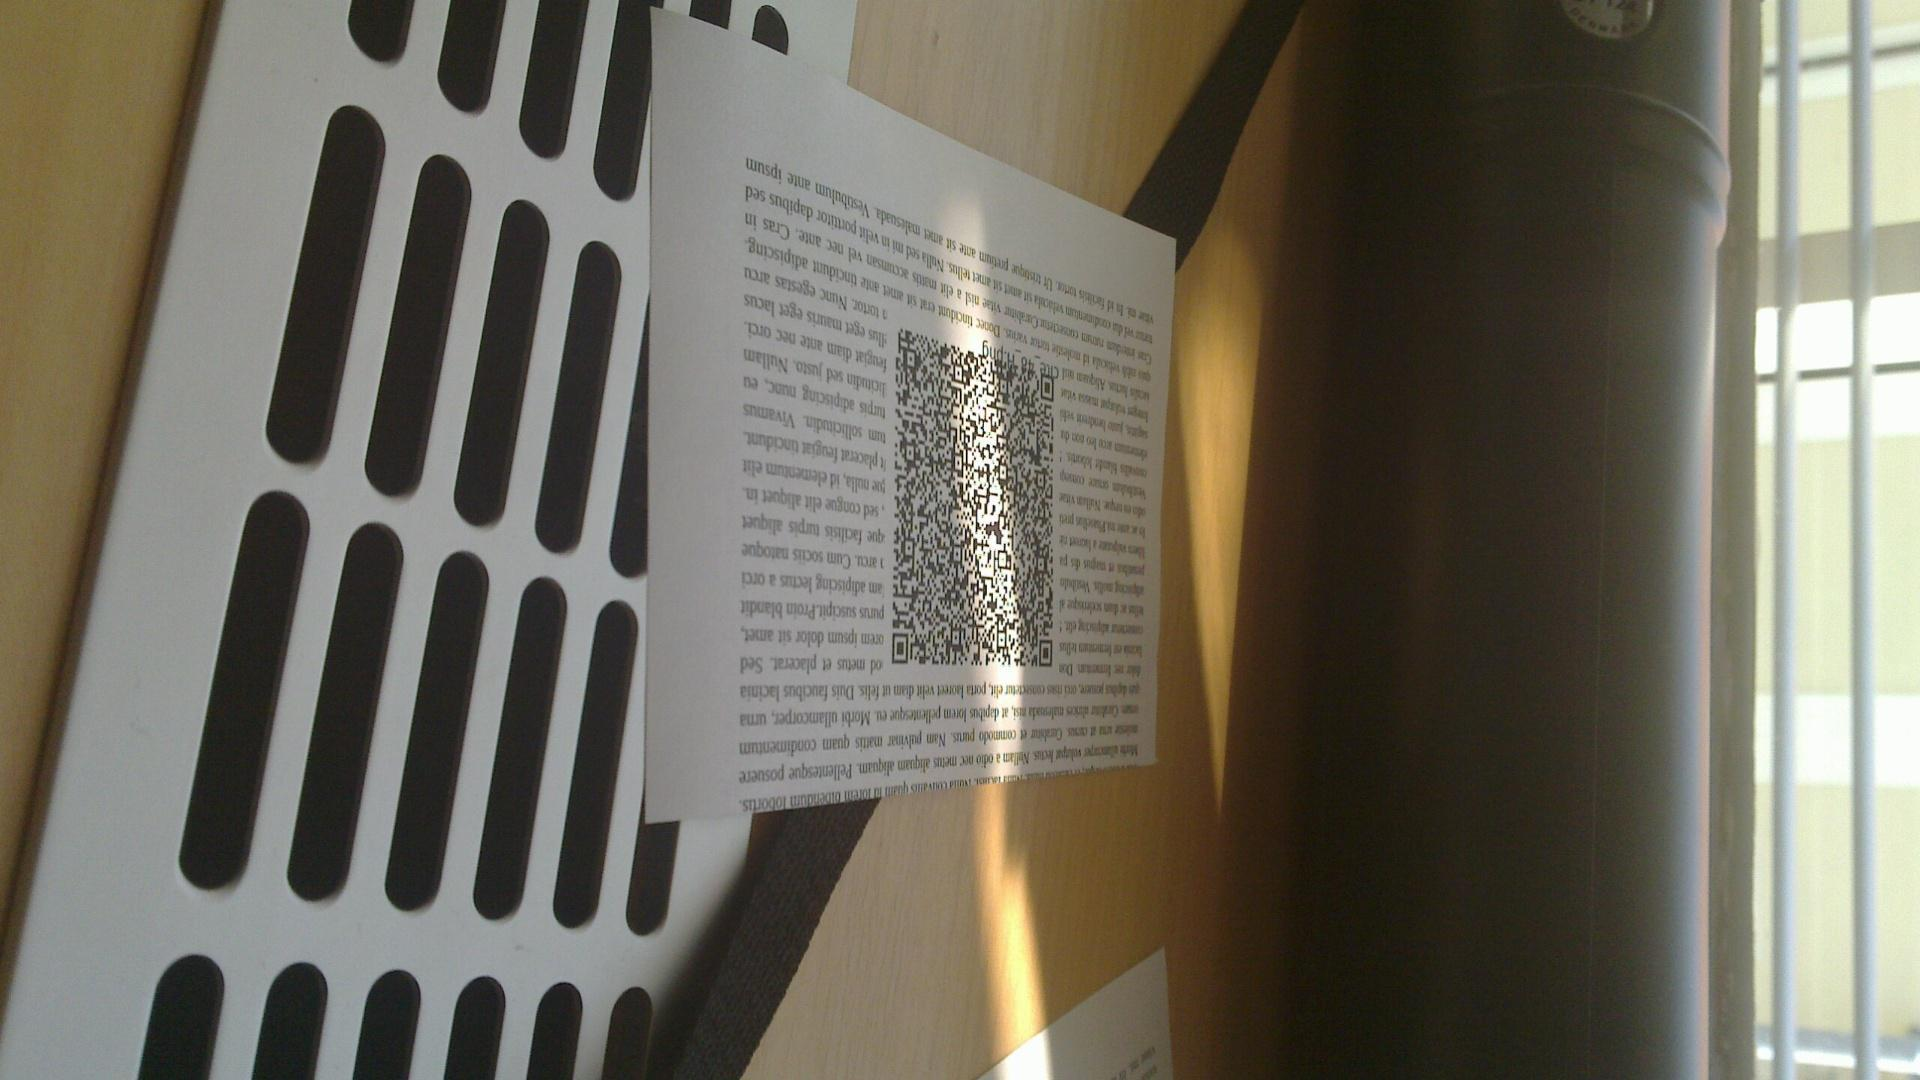Finder pattern: (885, 628, 914, 669), (1033, 636, 1056, 670), (1035, 369, 1058, 405)
